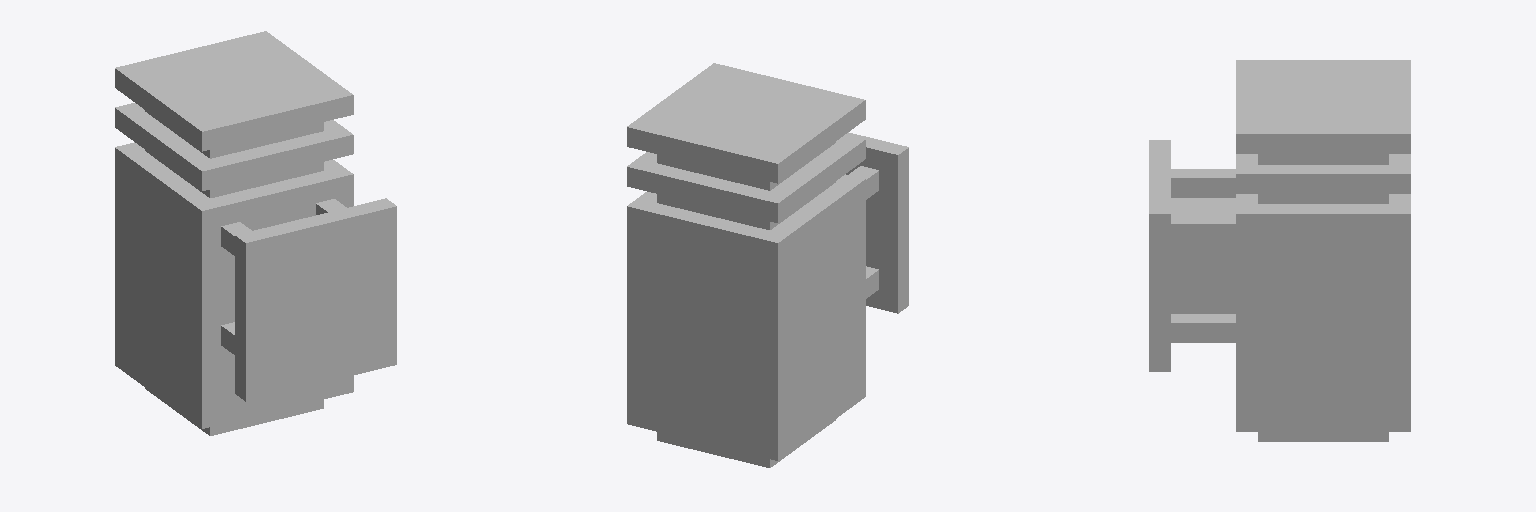
File: electricPump_1.obj
3 renders of one model, left to right at view 1: azimuth 30°, elevation 25°; view 2: azimuth 150°, elevation 25°; view 3: azimuth 270°, elevation 25°, orthographic.
Visible parts, largest first — view 1: pumpCasing, powerPort, pumpPortTop, pumpRingTop, pumpBase; view 2: pumpCasing, pumpPortTop, pumpRingTop, powerPort, pumpBase; view 3: pumpCasing, pumpPortTop, powerConnector, pumpRingTop, powerPort, pumpBase, powerConnectorFrame1, powerConnectorFrame2, powerConnectorFrame3.
Boxes of the visible parts, x1,y1,x2,y2 form: pumpCasing: [115, 142, 353, 428]; powerPort: [235, 198, 396, 401]; pumpPortTop: [115, 31, 353, 151]; pumpRingTop: [115, 103, 353, 190]; pumpBase: [145, 110, 323, 435]; pumpCasing: [627, 174, 865, 460]; pumpPortTop: [627, 63, 865, 183]; pumpRingTop: [627, 135, 865, 222]; powerPort: [845, 132, 908, 313]; pumpBase: [657, 142, 835, 467]; pumpCasing: [1236, 194, 1410, 431]; pumpPortTop: [1236, 60, 1410, 153]; powerConnector: [1171, 198, 1235, 313]; pumpRingTop: [1236, 154, 1410, 193]; powerPort: [1149, 140, 1170, 371]; pumpBase: [1258, 154, 1388, 441]; powerConnectorFrame1: [1171, 169, 1235, 197]; powerConnectorFrame2: [1171, 215, 1235, 243]; powerConnectorFrame3: [1171, 314, 1235, 342].
Size of the model in its own units: 0.5 by 1 by 0.75.